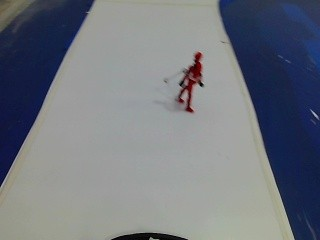pedestrian: (174, 49, 209, 115)
